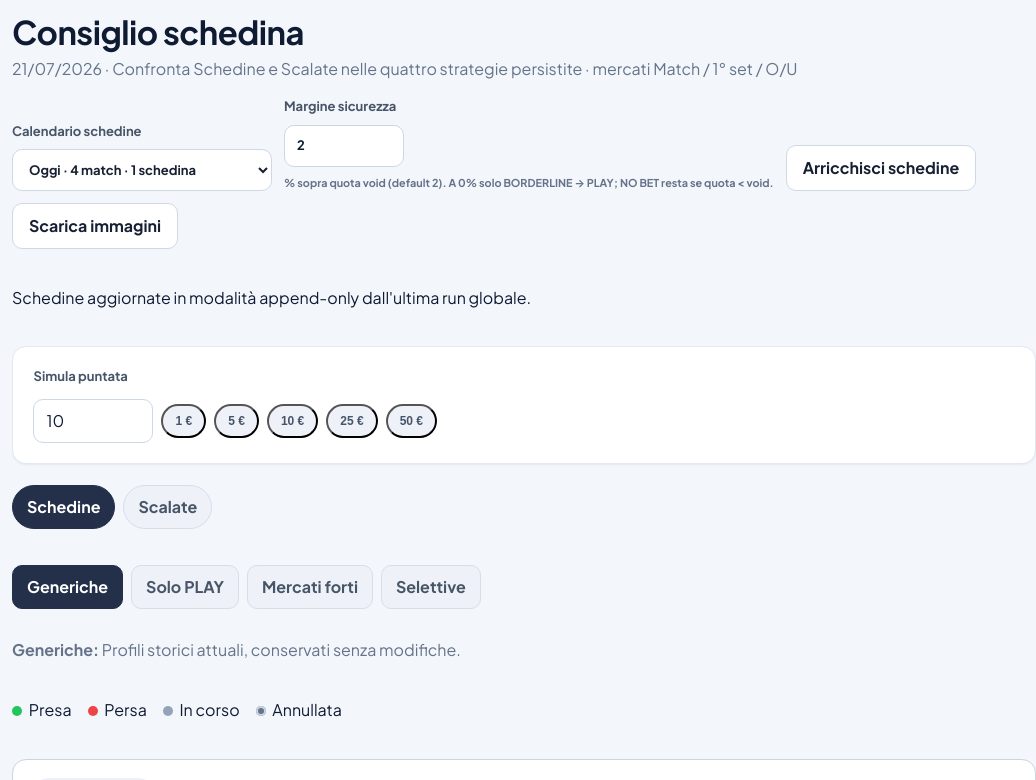
Test: BettingSlipsPage › filters persisted slips through the four strategy sub-tabs
The width and height of the screenshot is (1036, 780).
Click the button "Solo PLAY" at (185, 587), box left=131, top=565, right=239, bottom=609
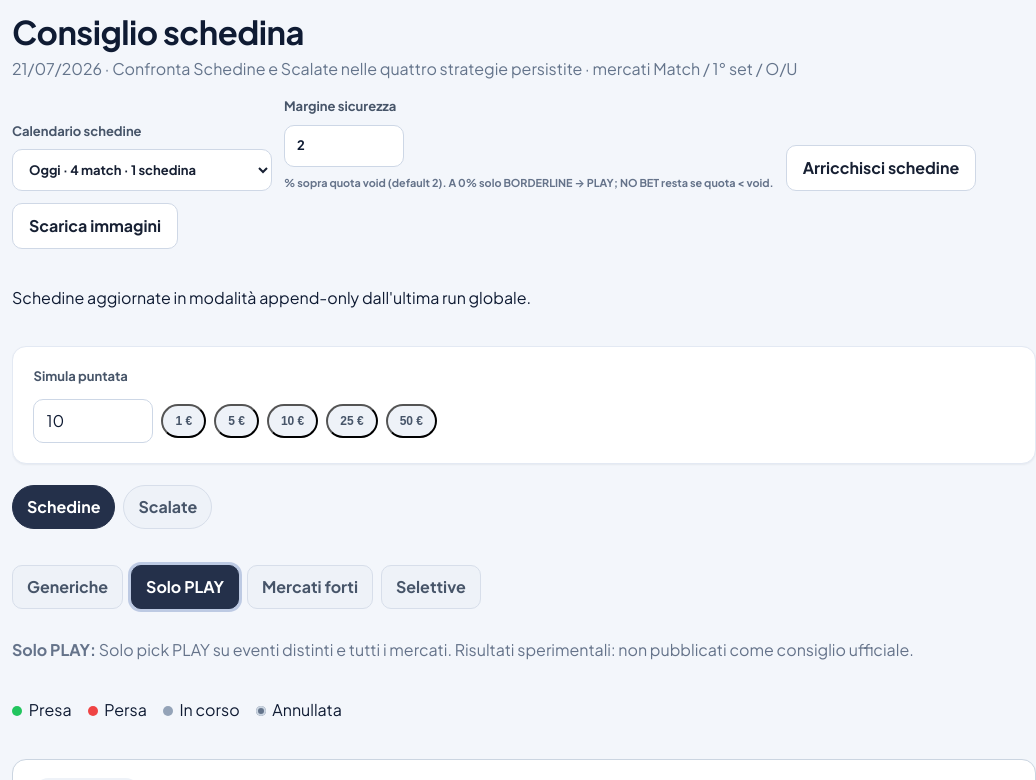
expect the text "Risultati sperimentali: non pubblicati come consiglio ufficiale" is shown: met, box left=452, top=639, right=914, bottom=660
